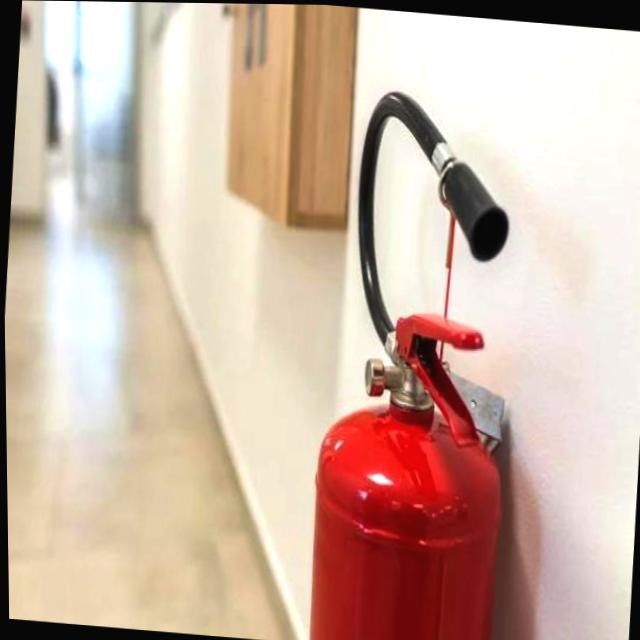FireExtinguisher: (287, 78, 536, 640)
